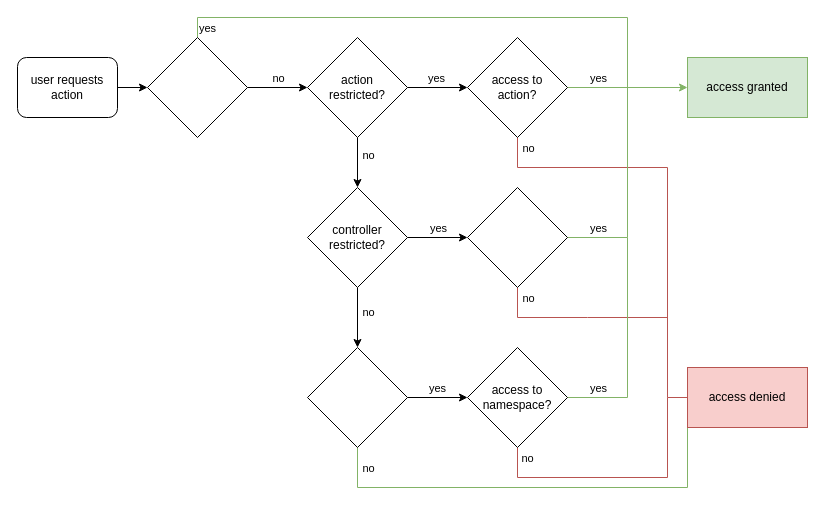
Some shapes in this 825 by 506 pixel diagram are drawn without their labels. Each missing label, with the centre of its shape:
access to controller?: [517,237]
namespace restricted?: [357,397]
user is super admin?: [197,87]
